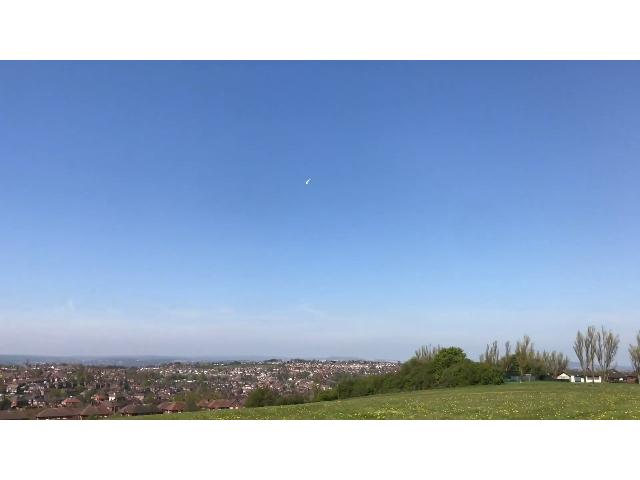Anti-Drone: (298, 167, 320, 187)
